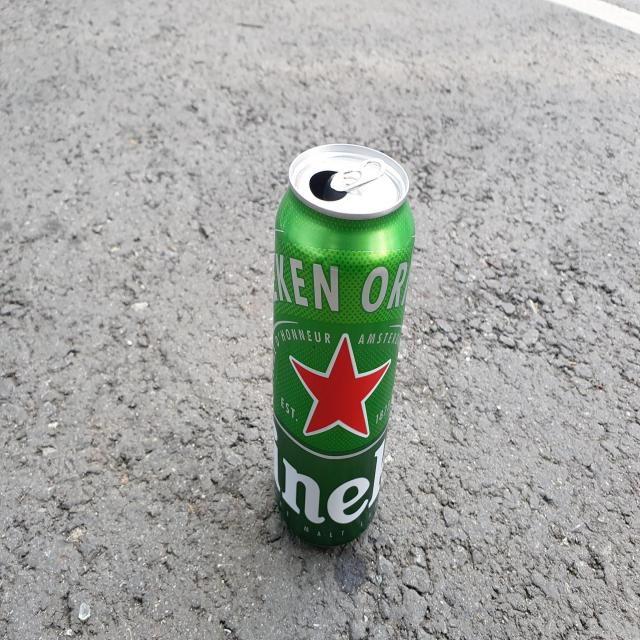can: (273, 143, 416, 546)
